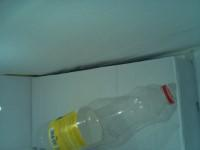bottle: (103, 0, 110, 44)
